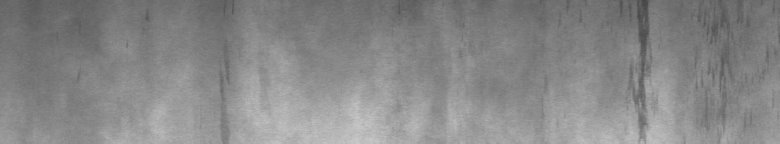ka: (620, 4, 769, 136)
